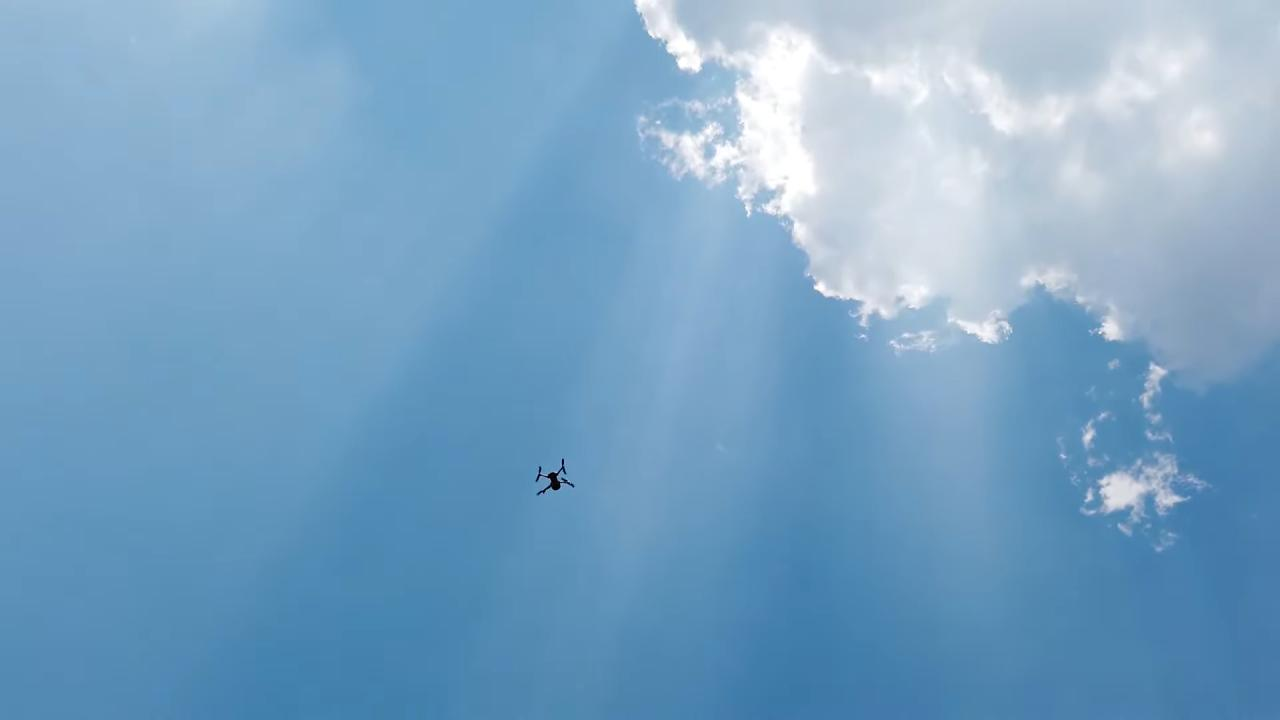Drone: (523, 454, 585, 504)
